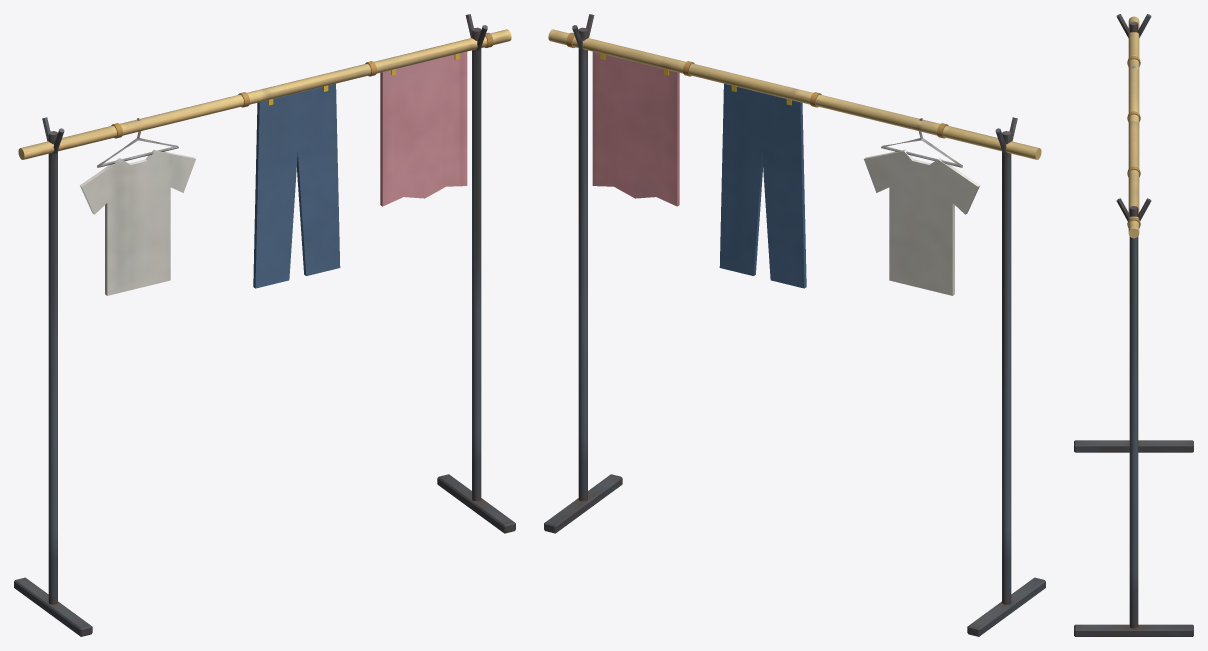
Rendered from laundry_pole.glb.
The picture shows the model from 3 angles, left to right: view 1: azimuth 30°, elevation 25°; view 2: azimuth 150°, elevation 25°; view 3: azimuth 270°, elevation 25°; orthographic projection. The views are drawn at different scales.
Visible parts, largest first — view 1: laundry_pole; view 2: laundry_pole; view 3: laundry_pole.
Boxes of the visible parts, x1,y1,x2,y2 form: laundry_pole: (14, 14, 515, 636); laundry_pole: (544, 14, 1045, 636); laundry_pole: (1074, 14, 1193, 636).
Size of the model in its own units: 2.3 by 2.2 by 0.55.
Materials: 8 (8 with a texture image).
